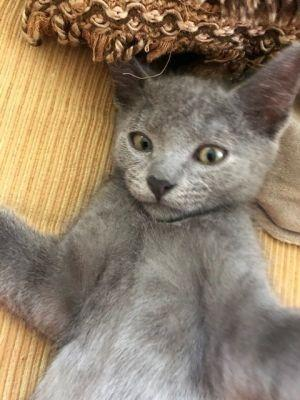rblue: (103, 31, 294, 239)
